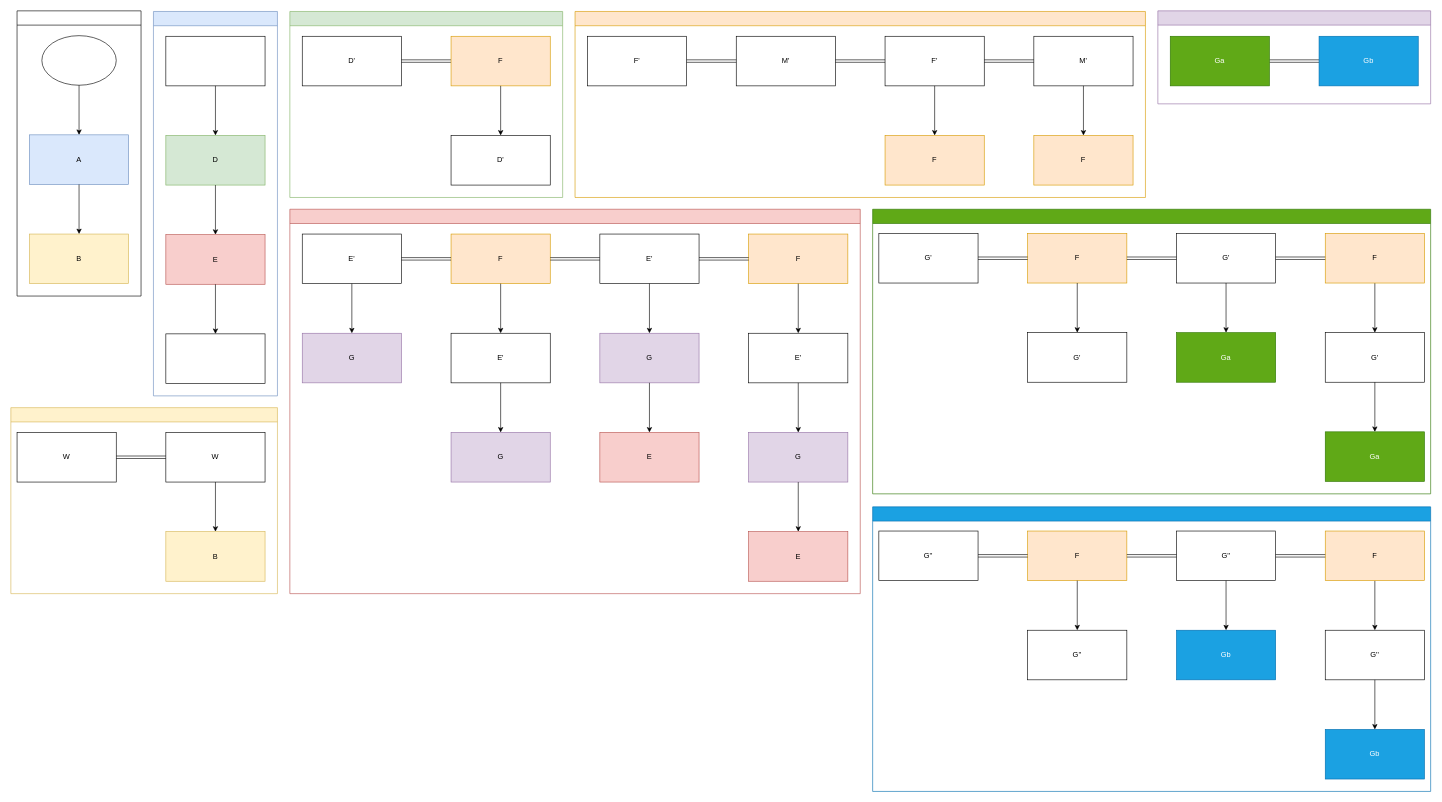
Some shapes in this 1442 by 802 pixel diagram are drawn without their labels. The box of each missing label's shape, as (x1, y1, x2, y2) in pixels:
A (header): (153, 11, 277, 396)
A': (165, 36, 265, 86)
A'': (165, 333, 265, 383)
B (body): (10, 407, 277, 594)
D (format declaration): (289, 11, 563, 197)
E (element): (289, 209, 860, 594)
F (comment and obj_info): (574, 11, 1145, 197)
G (property and property list): (1157, 10, 1431, 104)
Ga (property): (872, 209, 1431, 494)
Gb (property list): (872, 506, 1431, 791)
Ply File Format: (16, 10, 141, 296)
Start: (41, 35, 116, 85)
